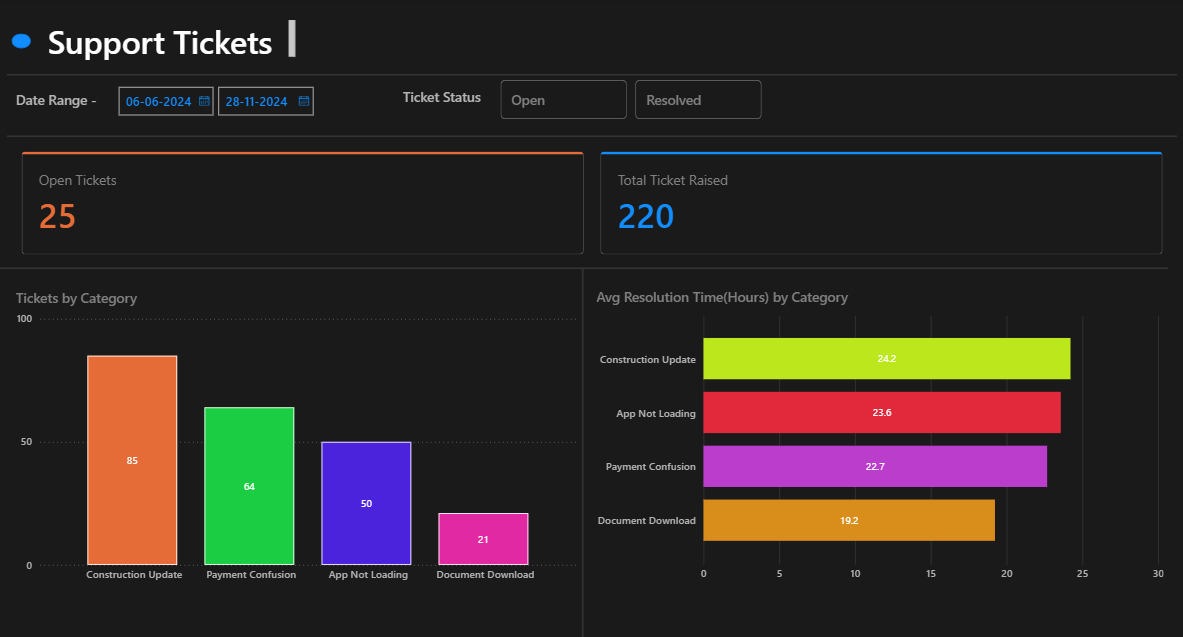

This screenshot's page, from the dashboard's own definition file:
{"tool":"powerbi","page":{"name":"Support Tickets","canvas":[1400,800],"ordinal":3},"visuals":[{"type":"cardVisual","fields":{"Data":["All Measures.Open Tickets","CountNonNull(tickets.ticket_id)"]},"box":[10.6,162.6,1378.5,155.5],"z":0},{"type":"textbox","box":[15.9,102.5,113.1,37.1],"z":1000},{"type":"shape","box":[10.6,136.1,1378.5,51.3],"z":2000},{"type":"shape","box":[10.6,58.3,1378.5,61.9],"z":3000},{"type":"shape","box":[0,279.2,1378.5,76],"z":4000},{"type":"advancedSlicerVisual","fields":{"Values":["tickets.status"]},"box":[586.8,90.1,318.1,56.6],"z":5000},{"type":"textbox","box":[471.9,99,114.9,37.1],"z":6000},{"type":"shape","box":[15.9,40.6,23,17.7],"z":7000},{"type":"textbox","box":[53,19.4,302.2,56.6],"z":8000},{"type":"slicer","fields":{"Values":["calls.call_date"]},"box":[129,93.7,251,53],"z":9000},{"type":"clusteredBarChart","title":"Avg Resolution Time(Hours) by Category","fields":{"Category":["tickets.category"],"Y":["All Measures.Avg Resolve Hours"]},"box":[699.9,339.3,689.3,355.2],"z":10000},{"type":"clusteredColumnChart","title":"Tickets by Category","fields":{"Category":["tickets.category"],"Y":["CountNonNull(tickets.ticket_id)"]},"box":[0,339.3,689.3,355.2],"z":11000},{"type":"shape","box":[654,318,70,468],"z":12000}]}

Visuals, with their boxes on the page's 1400x800 design canvas (x1, y1, x2, y2). These are canvas units, not pixel positions in the 1183x637 screenshot, which may show the page scaled, cropped or inside an application window:
cardVisual - All Measures.Open Tickets x CountNonNull(tickets.ticket_id): BBox(11, 163, 1389, 318)
textbox: BBox(16, 102, 129, 140)
shape: BBox(11, 136, 1389, 187)
shape: BBox(11, 58, 1389, 120)
shape: BBox(0, 279, 1378, 355)
advancedSlicerVisual - tickets.status: BBox(587, 90, 905, 147)
textbox: BBox(472, 99, 587, 136)
shape: BBox(16, 41, 39, 58)
textbox: BBox(53, 19, 355, 76)
slicer - calls.call_date: BBox(129, 94, 380, 147)
"Avg Resolution Time(Hours) by Category" clusteredBarChart: BBox(700, 339, 1389, 694)
"Tickets by Category" clusteredColumnChart: BBox(0, 339, 689, 694)
shape: BBox(654, 318, 724, 786)
